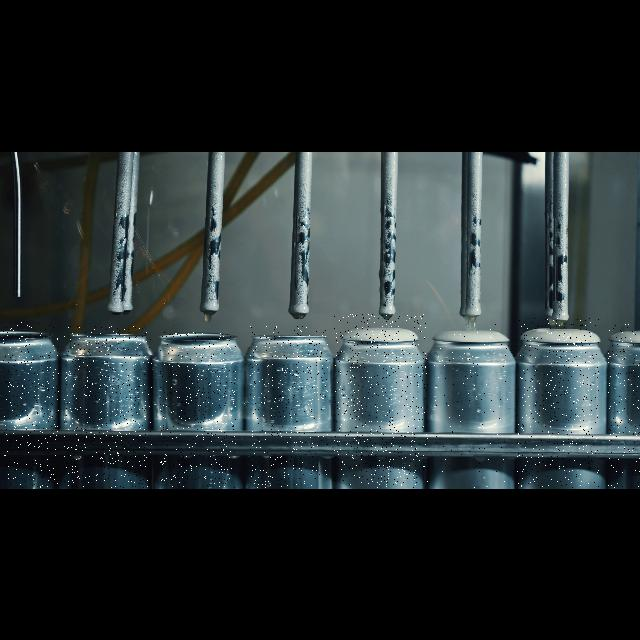empty: (64, 326, 152, 488), (250, 326, 328, 488), (160, 332, 236, 488), (3, 322, 59, 488)
full: (334, 314, 428, 488), (517, 318, 599, 488), (432, 322, 508, 488), (608, 322, 640, 488)
